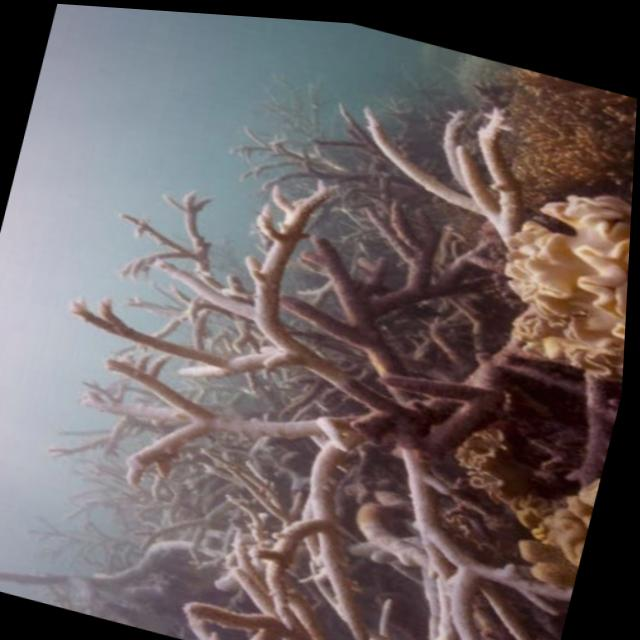Dead Coral: (70, 60, 638, 640)
